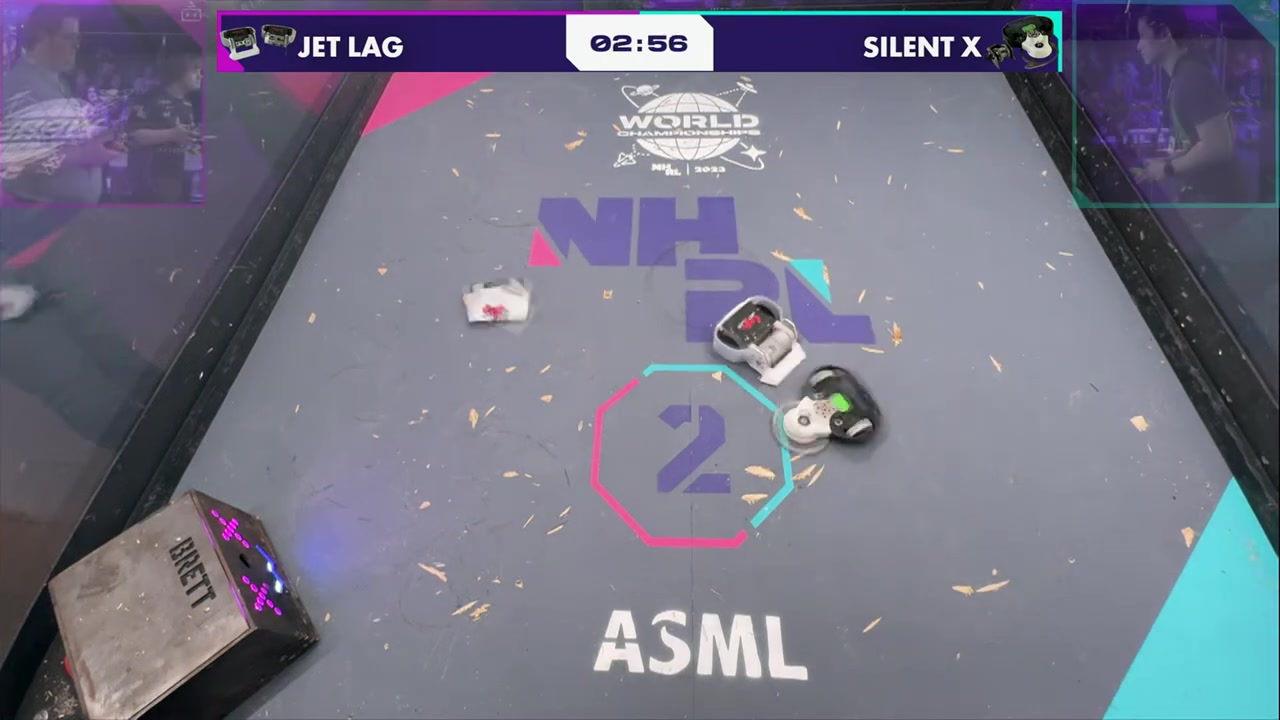combatbot: (783, 364, 883, 447), (713, 296, 798, 364)
housebot: (47, 488, 319, 716)
minibot: (463, 280, 529, 323), (603, 256, 612, 257)
